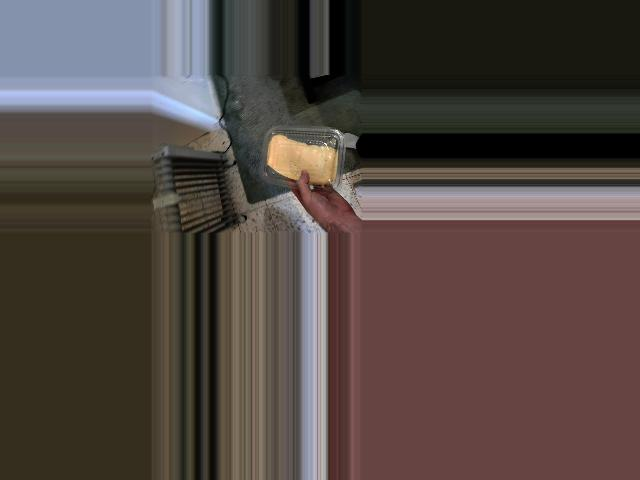cheese: (257, 127, 344, 191)
